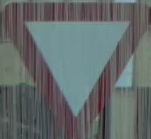Give way: (5, 2, 142, 128)
